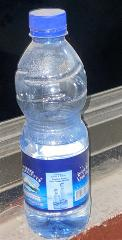general: (59, 182, 68, 210), (54, 189, 60, 210)
plastic: (14, 7, 92, 239)
